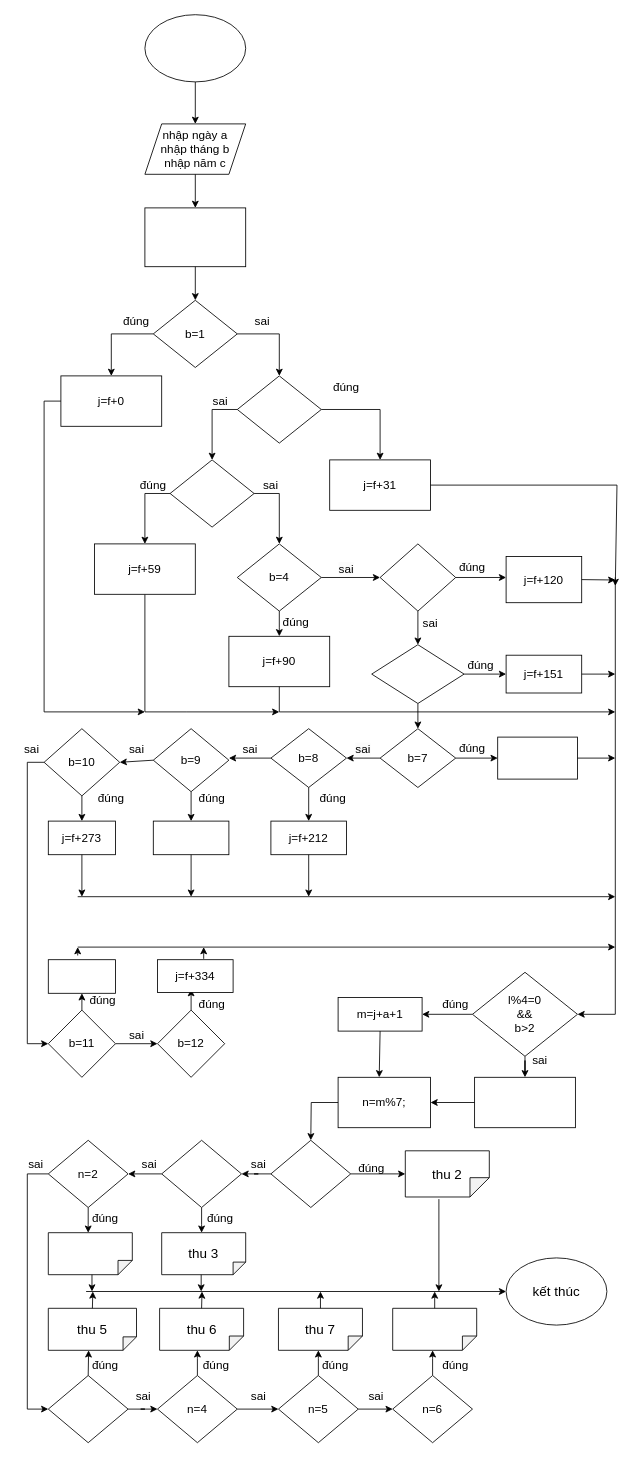
Some shapes in this 638 by 1457 pixel diagram are drawn without their labels. Here are the shapes that lost their labels. From the top down, the centre of each, then its label:
the point at 195,48: Bắt Đầu
the point at 195,237: d=(c-1901); l=c%100; e=d/4; f=365*d+e;
the point at 278,409: b=2
the point at 211,493: b=3
the point at 417,577: b=5
the point at 417,674: b=6
the point at 537,757: j=f+181
the point at 190,837: j=f+243
the point at 81,976: j=f+304
the point at 524,1102: m=j+a
the point at 201,1173: n=1
the point at 310,1173: n=0
the point at 89,1253: thu 4
the point at 434,1328: chu nhat
the point at 87,1409: n=3
